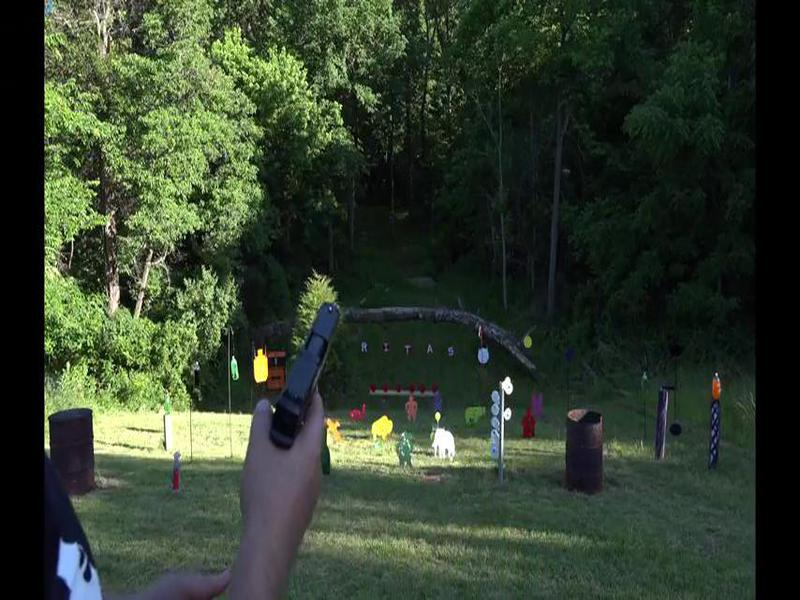Pistola: (267, 287, 360, 464)
